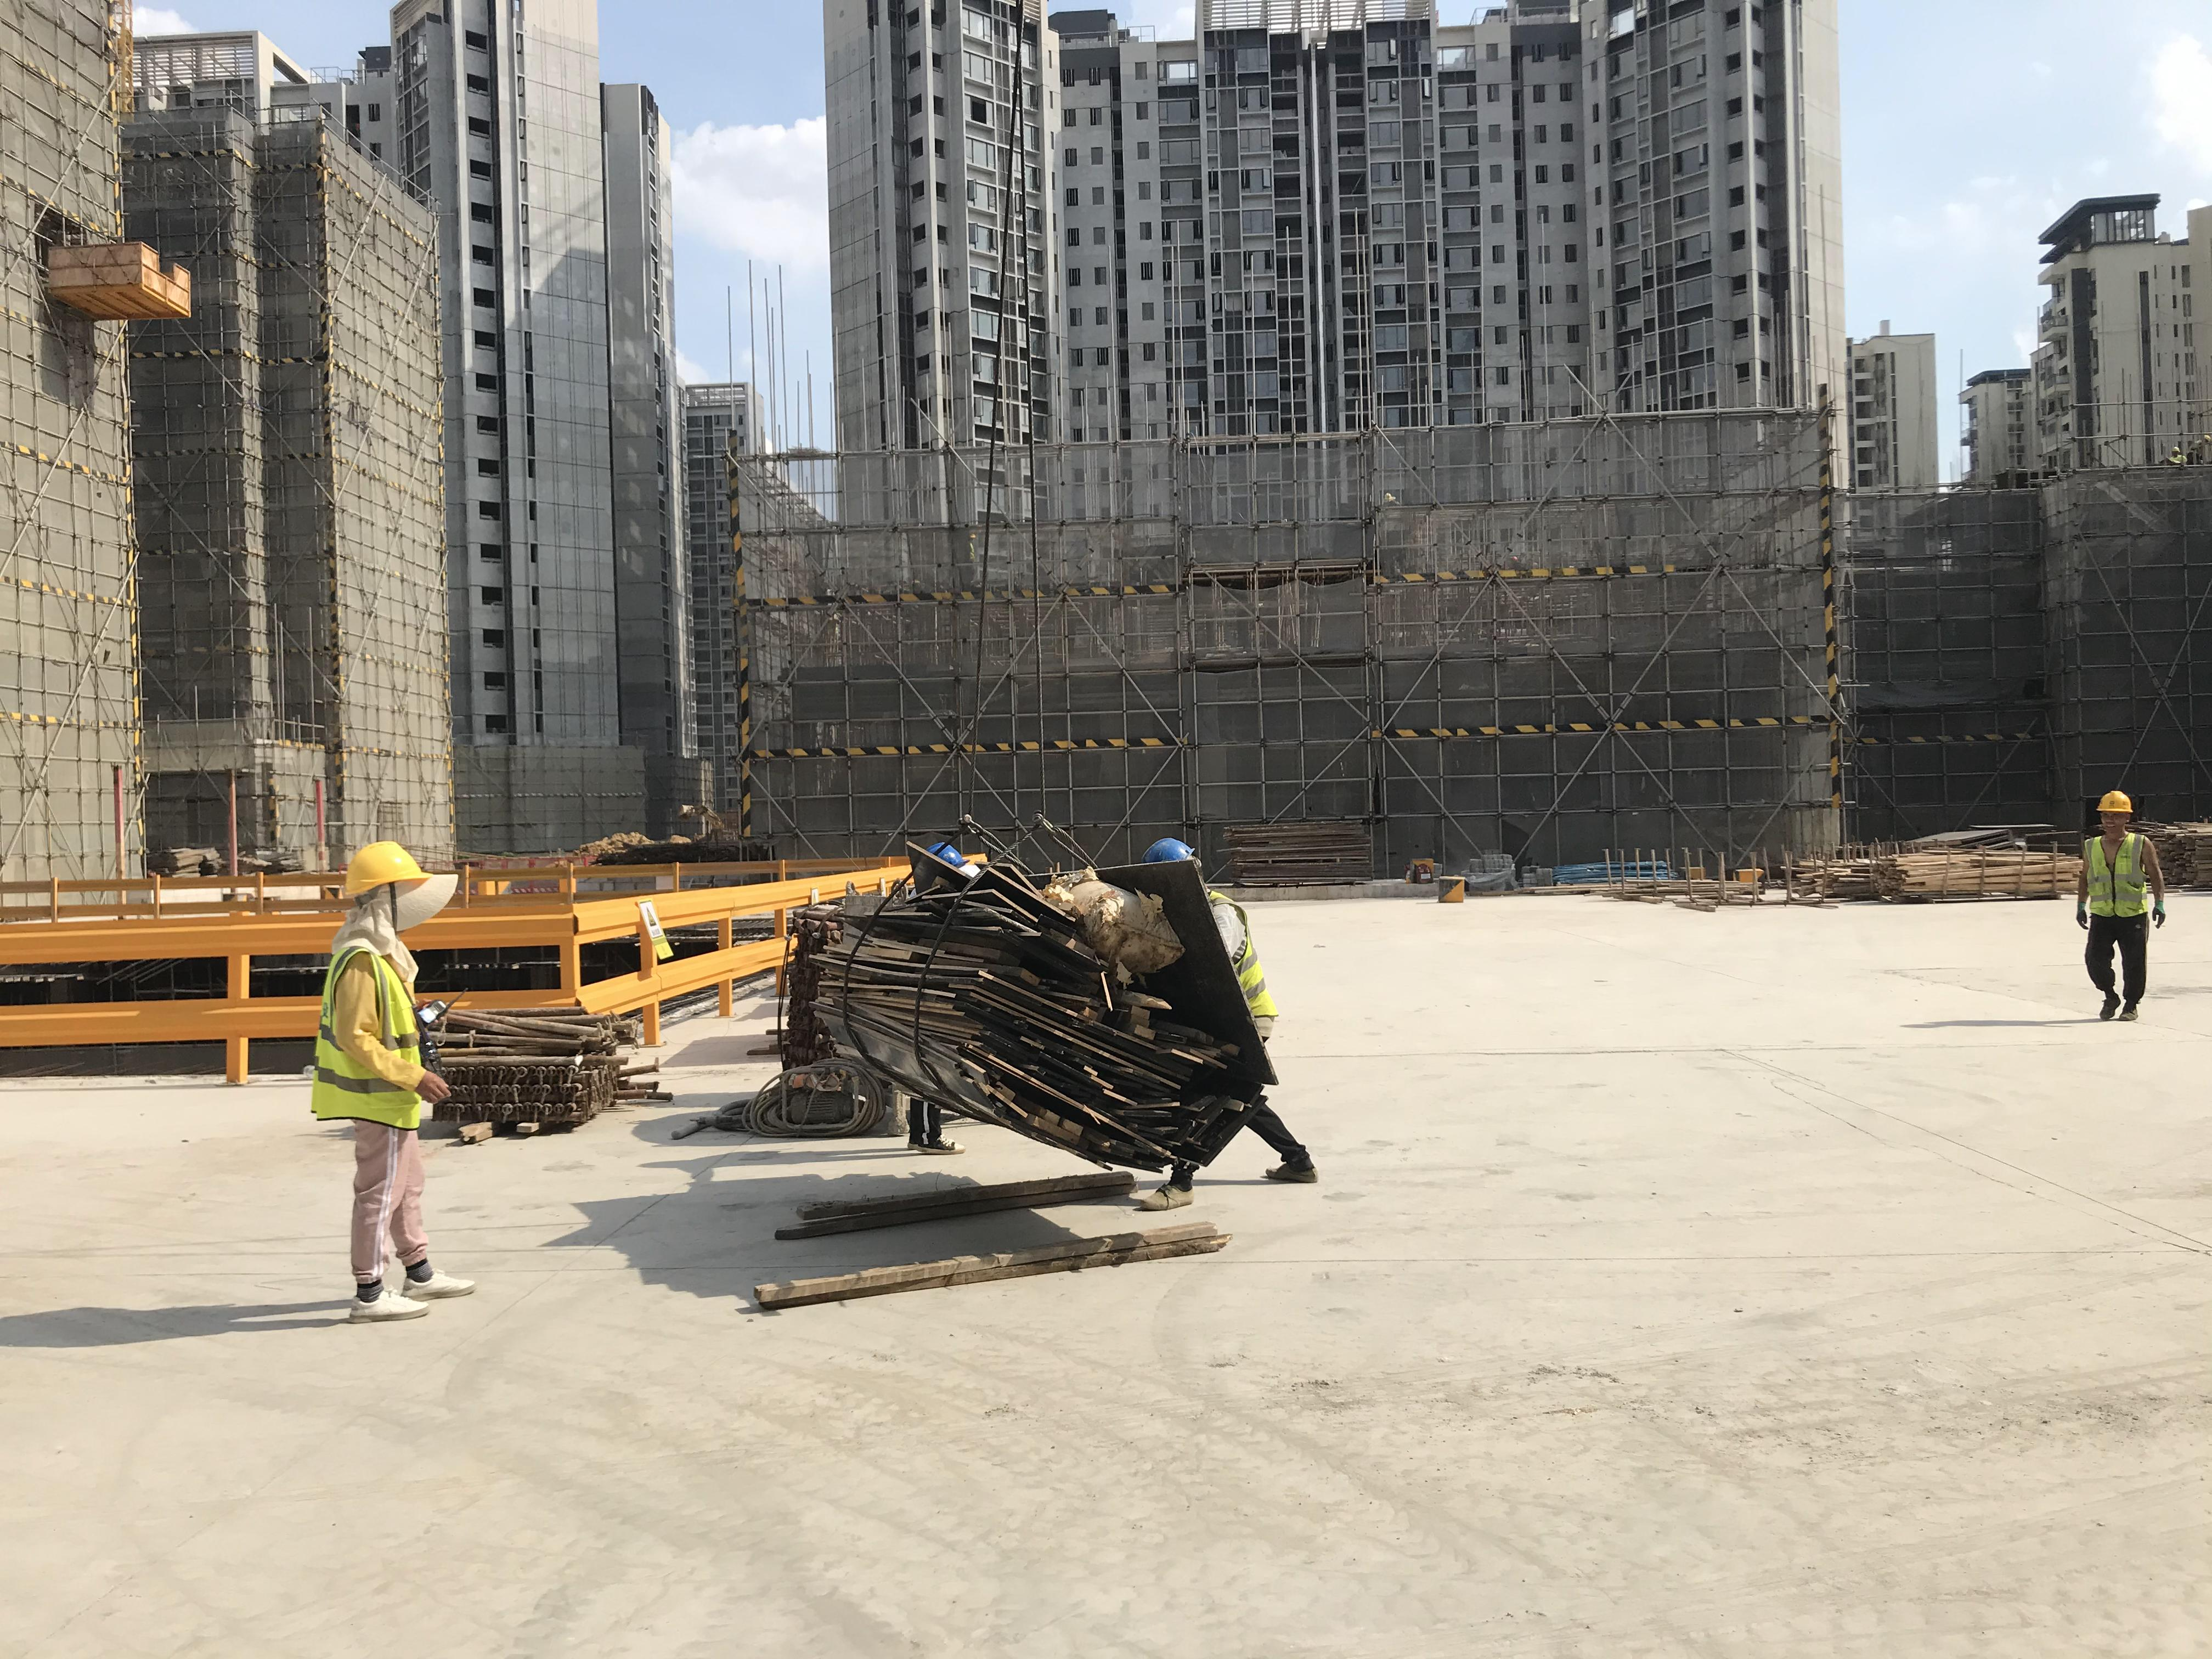board: (824, 889, 1212, 1174), (1229, 818, 1372, 884)
helmet: (343, 842, 431, 897), (1141, 837, 1194, 865), (2098, 790, 2135, 814)
person: (311, 839, 477, 1327), (1138, 836, 1318, 1212), (2075, 786, 2169, 1024)
scaffold: (439, 1006, 618, 1126)
vest: (312, 938, 420, 1132), (2087, 833, 2145, 916)
wood: (1874, 850, 2078, 899), (2163, 822, 2212, 891)
